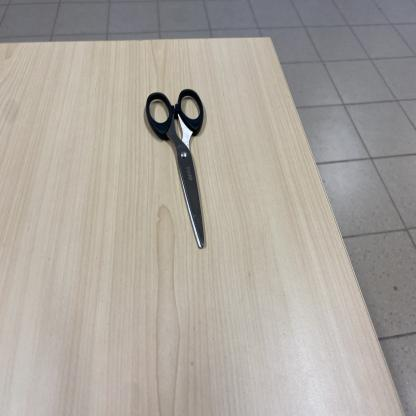scissors: (145, 88, 209, 249)
